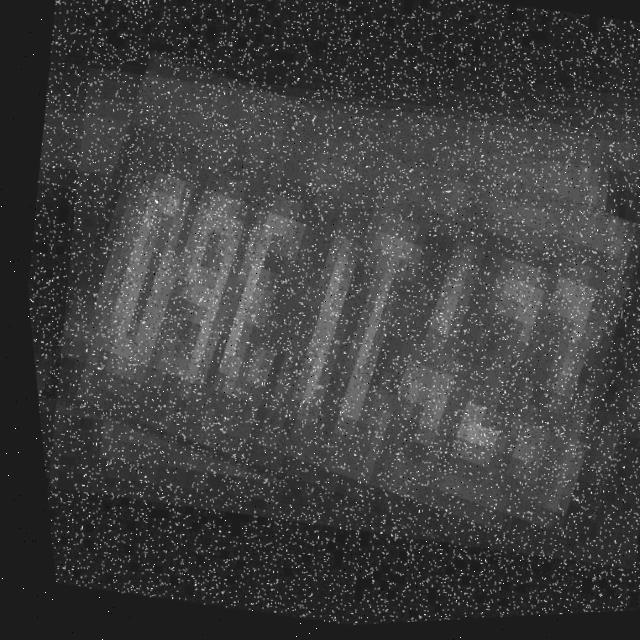LicensePlate: (6, 46, 640, 599)
